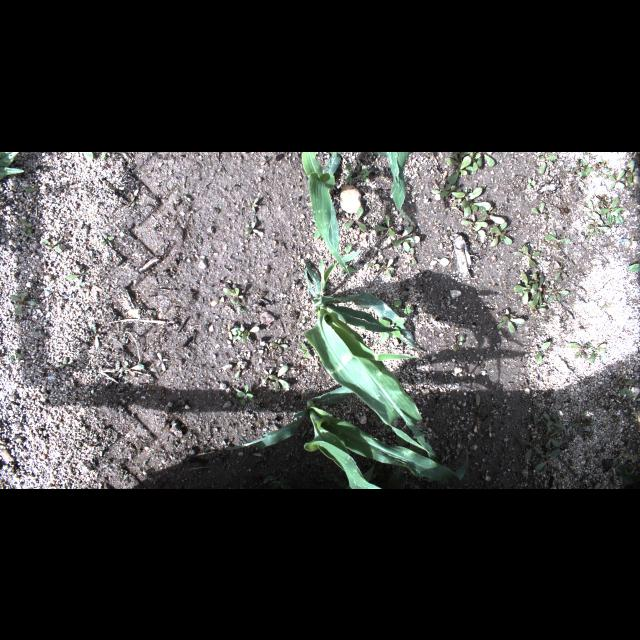crop: (304, 248, 438, 468), (226, 378, 468, 488), (302, 151, 351, 277), (376, 152, 416, 226)
weed: (387, 428, 425, 488), (604, 454, 634, 484), (514, 270, 538, 304), (378, 316, 407, 342), (392, 225, 420, 251), (0, 152, 24, 180), (448, 156, 472, 184), (466, 186, 494, 210), (600, 196, 624, 224), (534, 448, 560, 472), (490, 220, 512, 247), (10, 292, 36, 314), (268, 366, 290, 392), (514, 244, 540, 266), (544, 228, 572, 248), (567, 157, 595, 177), (516, 438, 542, 459), (446, 156, 476, 174), (345, 207, 367, 231), (498, 313, 524, 333), (476, 205, 506, 222), (374, 214, 396, 236), (586, 221, 610, 241), (567, 341, 593, 359), (66, 264, 88, 284), (235, 383, 255, 405), (539, 152, 559, 174), (544, 412, 566, 432), (544, 426, 564, 448), (606, 168, 626, 190), (324, 469, 348, 487), (577, 412, 597, 432), (581, 200, 601, 220), (548, 284, 570, 302), (438, 185, 466, 198), (461, 214, 487, 228), (222, 286, 242, 304), (581, 152, 603, 168), (590, 342, 606, 363), (624, 159, 638, 183), (594, 160, 612, 178), (536, 341, 550, 364), (269, 336, 289, 352), (452, 186, 472, 202), (534, 272, 544, 304), (618, 378, 634, 398), (246, 220, 264, 236), (242, 326, 260, 342), (346, 161, 358, 185), (530, 201, 548, 217), (462, 198, 478, 216), (530, 300, 548, 316), (42, 238, 62, 252), (392, 299, 412, 313), (475, 152, 495, 166), (356, 165, 370, 183), (20, 216, 32, 236), (338, 264, 358, 276), (382, 257, 394, 277), (222, 323, 236, 339), (295, 343, 309, 359), (262, 368, 276, 384), (554, 264, 568, 280), (431, 182, 453, 192), (156, 352, 168, 370), (469, 151, 481, 169), (453, 335, 465, 353), (92, 322, 100, 348), (246, 195, 258, 212), (100, 232, 114, 246), (233, 325, 245, 341), (113, 360, 125, 376), (454, 152, 470, 164), (542, 282, 554, 298), (472, 228, 484, 242), (409, 246, 418, 264), (60, 357, 74, 368), (122, 364, 144, 371), (372, 414, 383, 428), (596, 193, 608, 205), (342, 242, 352, 256), (528, 274, 538, 288), (620, 176, 634, 186), (260, 154, 272, 164), (368, 259, 380, 269), (452, 198, 464, 208), (476, 393, 482, 413), (491, 404, 503, 414), (26, 184, 40, 192), (587, 218, 603, 225), (233, 364, 240, 378), (314, 226, 322, 238), (626, 262, 638, 270), (343, 212, 353, 220), (528, 178, 536, 188), (628, 236, 636, 246), (570, 181, 578, 191), (82, 152, 94, 158), (568, 170, 580, 176), (533, 414, 537, 431), (237, 306, 247, 312), (592, 482, 602, 488), (8, 355, 22, 359), (444, 206, 458, 210), (300, 318, 306, 327), (538, 300, 546, 306), (100, 152, 106, 158)
